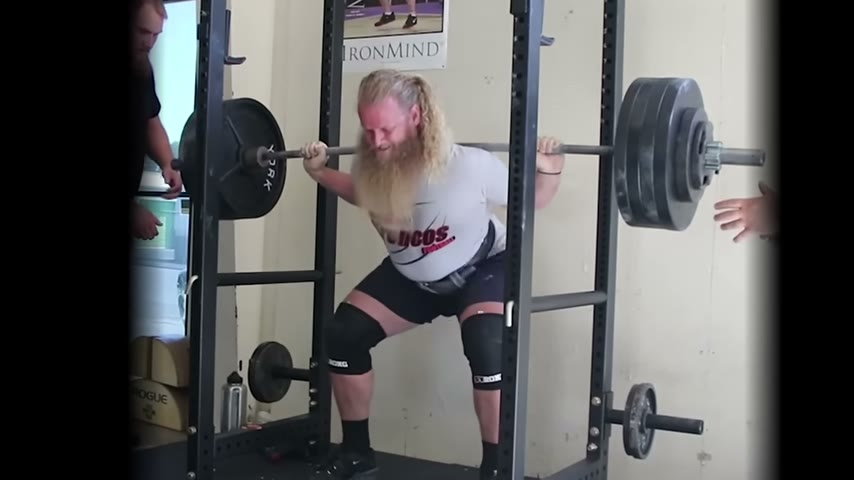barbell_plate_side: (673, 72, 775, 249)
